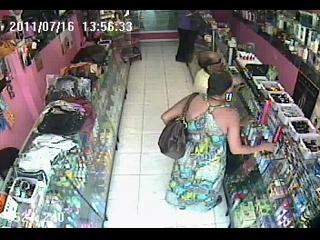Normal: (160, 71, 279, 226), (157, 93, 198, 160), (174, 10, 202, 68)
